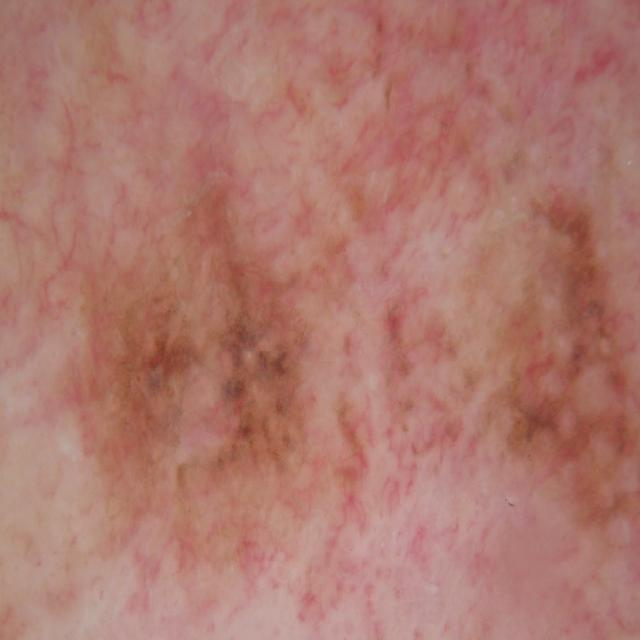Melanoma: (58, 123, 640, 639)
